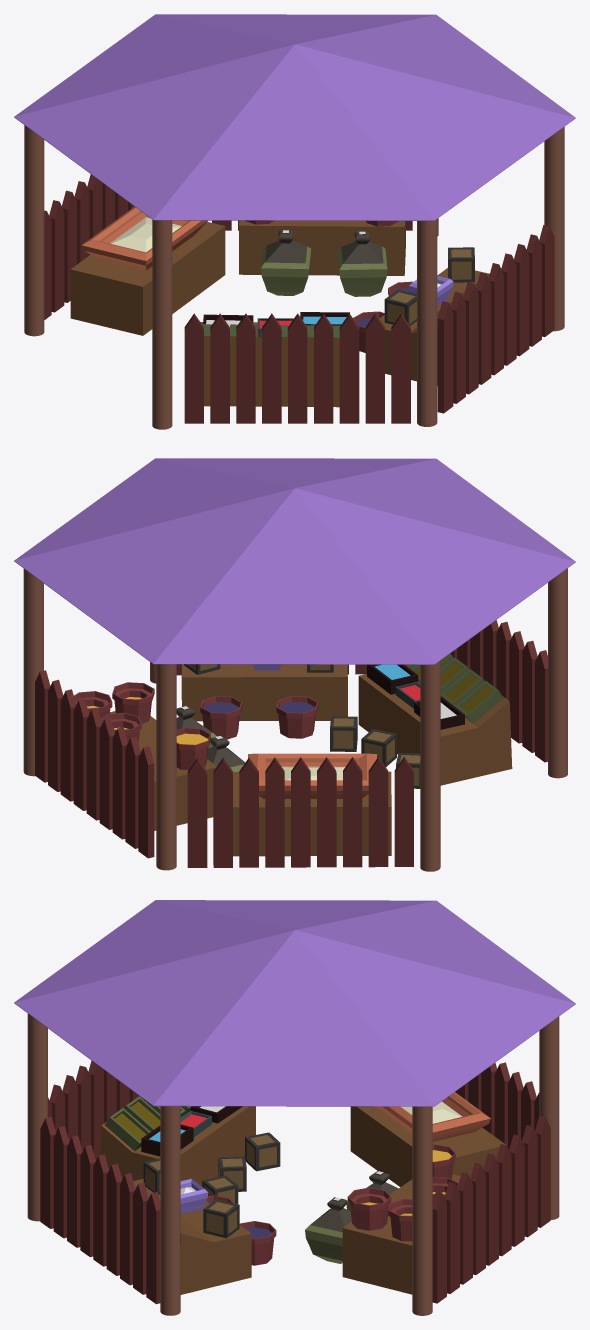
3 renders of one model, top to bottom at view 1: azimuth 30°, elevation 25°; view 2: azimuth 150°, elevation 25°; view 3: azimuth 270°, elevation 25°, orthographic.
Parts seen in each view (by area): view 1: Cylinder.003, Cube.006, store.003, Cube.002, Cube.001, Cylinder.004, Cylinder, Cylinder.005, Cube.016, Cylinder.001, Cube.007, Cube.005 (+2 smaller); view 2: Cylinder.003, store.003, Cube.001, Cube.011, Cube.006, Cylinder.005, Cylinder.006, Cylinder.004, Cylinder.007, Cube.016, Cube.013, Cylinder.008 (+10 smaller); view 3: Cylinder.003, store.003, Cube.002, Cube.011, Cube.006, Cylinder.007, Cylinder.001, Cube.001, Cylinder, Cylinder.006, Cube.016, Cube.005 (+12 smaller).
Boxes of the visible parts, x1,y1,x2,y2 form: Cylinder.003: (14,14,575,220); Cube.006: (184,313,410,423); store.003: (70,220,489,407); Cube.002: (437,225,554,413); Cube.001: (44,174,134,319); Cylinder.004: (152,220,172,429); Cylinder: (417,219,437,426); Cylinder.005: (24,125,44,336); Cube.016: (81,206,207,270); Cylinder.001: (544,127,564,331); Cube.007: (261,230,310,295); Cube.005: (337,231,387,296); Cylinder.003: (14,458,575,664); store.003: (110,664,512,856); Cube.001: (187,756,413,867); Cube.011: (35,670,154,858); Cube.006: (450,620,547,762); Cylinder.005: (420,660,440,871); Cylinder.006: (156,664,176,870); Cylinder.004: (548,568,567,778); Cylinder.007: (23,569,43,776); Cube.016: (248,753,376,798); Cube.013: (405,654,503,723); Cylinder.008: (276,696,318,738); Cylinder.003: (14,900,575,1106); store.003: (100,1106,505,1294); Cube.002: (40,1116,160,1304); Cube.011: (432,1115,550,1303); Cube.006: (48,1060,140,1159); Cylinder.007: (412,1106,432,1315); Cylinder.001: (160,1106,180,1315); Cube.001: (455,1062,539,1149); Cylinder: (27,1013,47,1221); Cylinder.006: (539,1016,559,1219); Cube.016: (377,1092,490,1141); Cube.005: (305,1197,351,1263).
Bounding box in the file's own units: 1.65 × 1.07 × 1.9.
